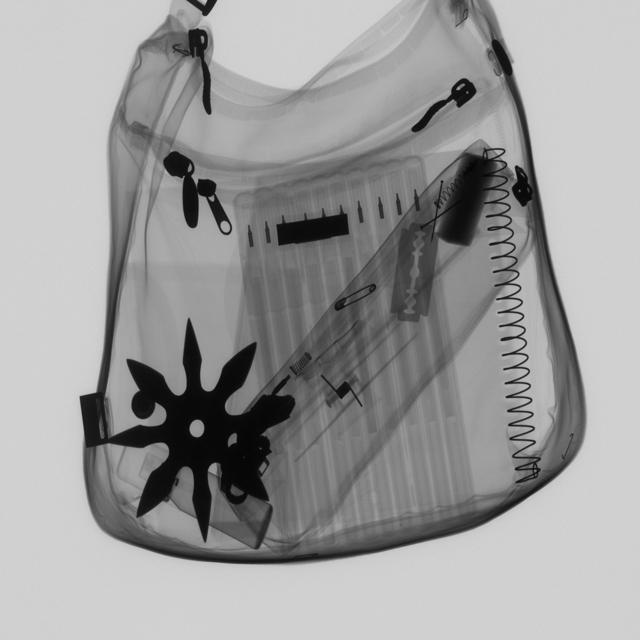razor: (392, 218, 438, 327)
shuriken: (101, 319, 289, 539)
